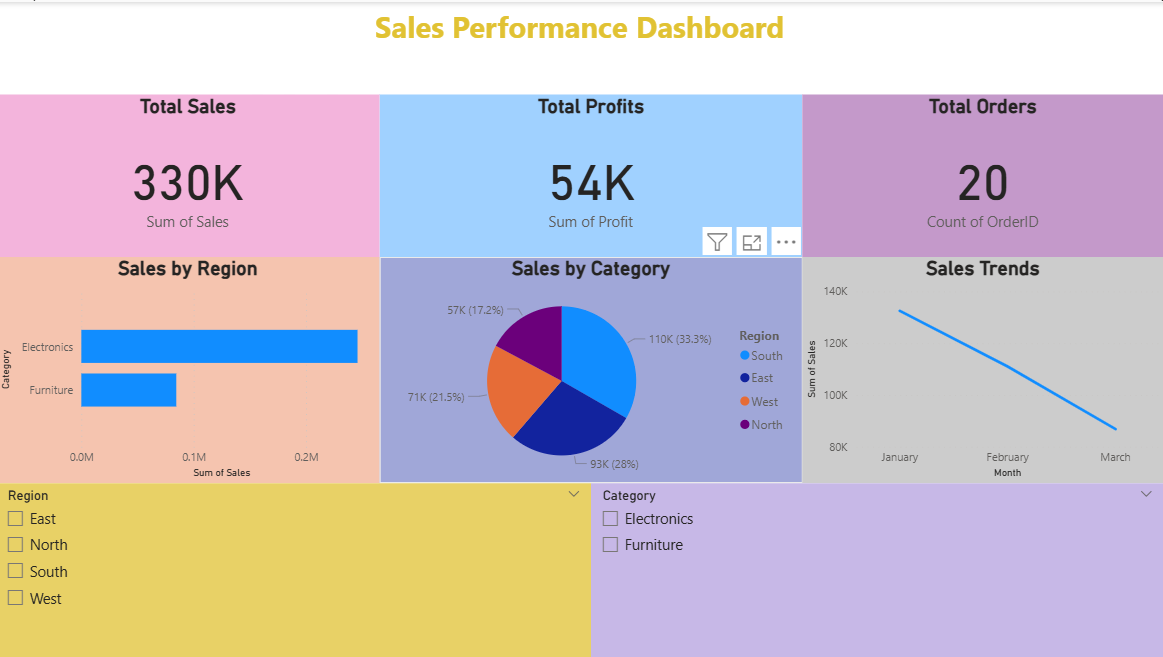

What the dashboard file says about the page in this screenshot:
{"tool":"powerbi","page":{"name":"Page 1","canvas":[1280,720],"ordinal":0},"visuals":[{"type":"card","title":"Total Sales","fields":{"Values":["Sum(SalesData (2).Sales)"]},"box":[0,101.5,420.9,178.2],"z":0},{"type":"card","title":"Total Profits","fields":{"Values":["Sum(SalesData (2).Profit)"]},"box":[420.9,101.5,463.4,178.2],"z":1000},{"type":"card","title":"Total Orders","fields":{"Values":["CountNonNull(SalesData (2).OrderID)"]},"box":[884.3,101.5,396.2,178.2],"z":2000},{"type":"clusteredBarChart","title":"Sales by Region","fields":{"Category":["SalesData (2).Category"],"Y":["Sum(SalesData (2).Sales)"]},"box":[0,279.7,420.9,248.2],"z":3000},{"type":"pieChart","title":"Sales by Category","fields":{"Category":["SalesData (2).Region"],"Y":["Sum(SalesData (2).Sales)"]},"box":[420.9,279.7,463.4,248.2],"z":4000},{"type":"lineChart","title":"Sales Trends","fields":{"Category":["SalesData (2).Date.Variation.Date Hierarchy.Month"],"Y":["Sum(SalesData (2).Sales)"]},"box":[884.3,279.7,396.2,248.2],"z":5000},{"type":"textbox","box":[0,0,1280.6,79.5],"z":6000},{"type":"slicer","fields":{"Values":["SalesData (2).Region"]},"box":[0,527.9,652.6,191.9],"z":7000},{"type":"slicer","fields":{"Values":["SalesData (2).Category"]},"box":[652.6,527.9,627.9,191.9],"z":8000}]}

Visuals, with their boxes in screenshot pixels (x1, y1, x2, y2), scaled from the page's 1280x720 canvas onto the 1163x657 screenshot:
"Total Sales" card: 0, 93, 382, 255
"Total Profits" card: 382, 93, 803, 255
"Total Orders" card: 803, 93, 1162, 255
"Sales by Region" clusteredBarChart: 0, 255, 382, 482
"Sales by Category" pieChart: 382, 255, 803, 482
"Sales Trends" lineChart: 803, 255, 1162, 482
textbox: 0, 0, 1162, 73
slicer - SalesData (2).Region: 0, 482, 593, 656
slicer - SalesData (2).Category: 593, 482, 1162, 656
